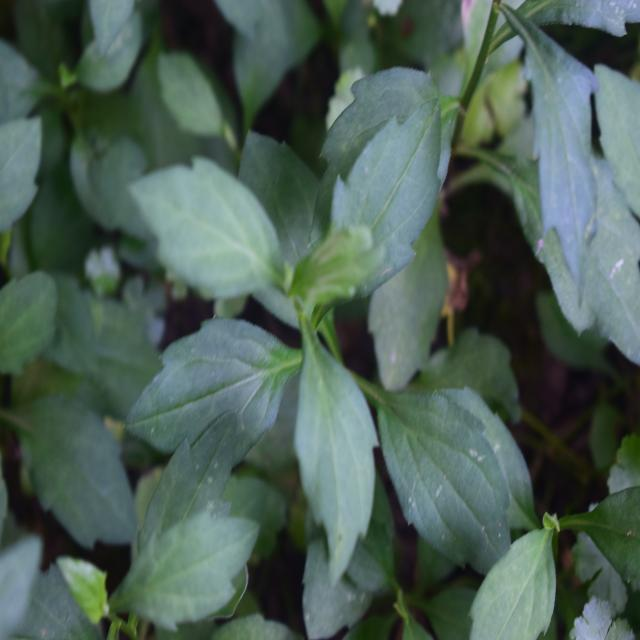Indian aster: (126, 122, 478, 604)
